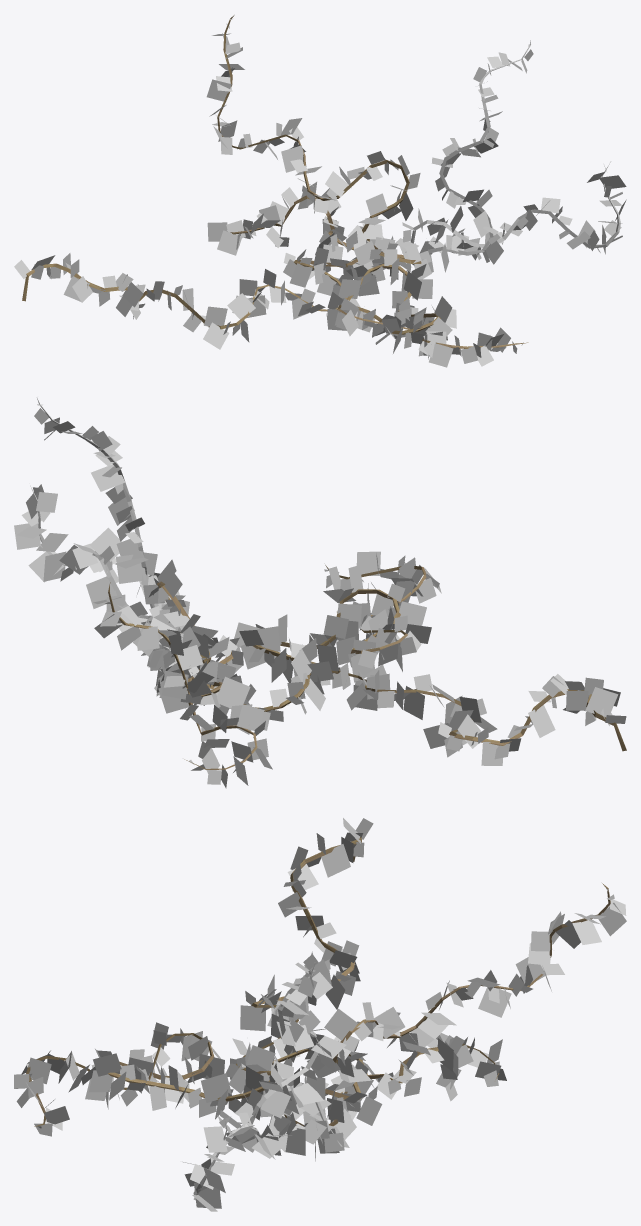
Rendered from ivy_10.fbx.
The picture shows the model from 3 angles, top to bottom: view 1: azimuth 30°, elevation 25°; view 2: azimuth 150°, elevation 25°; view 3: azimuth 270°, elevation 25°; orthographic projection. The views are drawn at different scales.
Parts seen in each view (by area): view 1: NewIvySnapshot_10; view 2: NewIvySnapshot_10; view 3: NewIvySnapshot_10.
Boxes of the visible parts, bbox=[...] form: NewIvySnapshot_10: bbox=[14, 15, 626, 367]; NewIvySnapshot_10: bbox=[14, 398, 626, 788]; NewIvySnapshot_10: bbox=[14, 818, 626, 1211].
Size of the model in its own units: 149 by 55.51 by 118.
